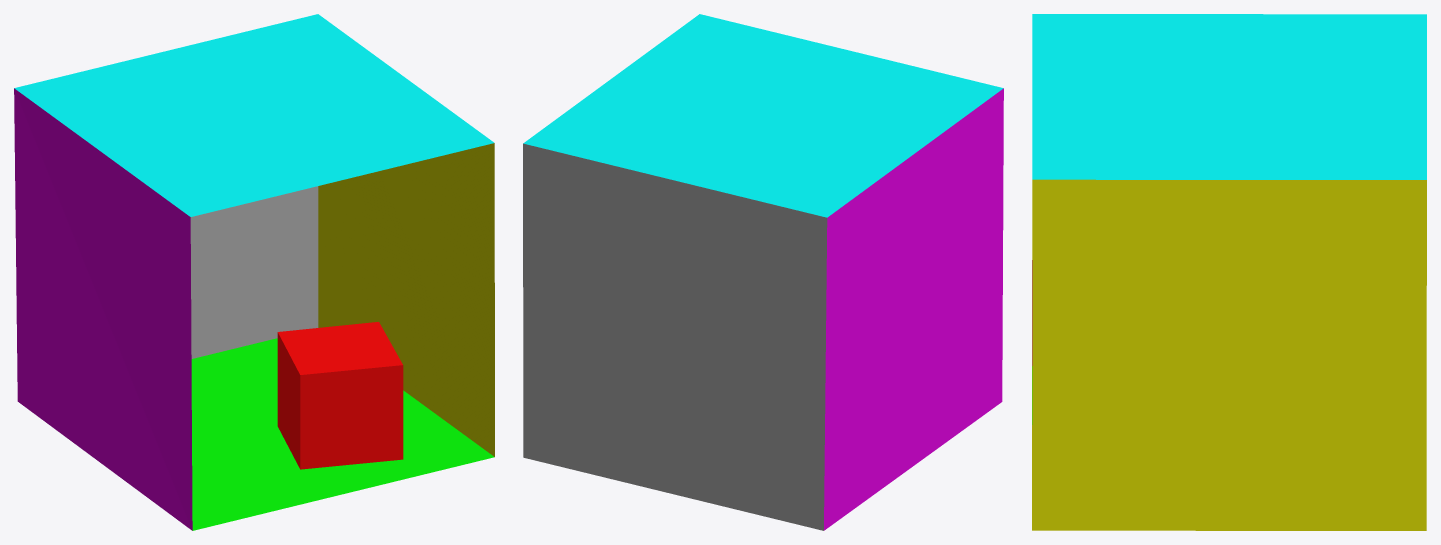
Rendered from cornell-box.obj.
3 views of the same model, side by side, from view 1: azimuth 30°, elevation 25°; view 2: azimuth 150°, elevation 25°; view 3: azimuth 270°, elevation 25° (orthographic). The views are drawn at different scales.
Parts seen in each view (by area): view 1: left_wall, ceiling, right_wall, floor, back_wall, short_box; view 2: back_wall, left_wall, ceiling; view 3: right_wall, ceiling.
Part boxes in pixels (box(x1,y1,x2,y2)): left_wall: box(14, 88, 192, 530); ceiling: box(14, 14, 494, 216); right_wall: box(318, 143, 494, 456); floor: box(191, 338, 494, 530); back_wall: box(190, 186, 318, 358); short_box: box(277, 322, 403, 469); back_wall: box(523, 143, 827, 530); left_wall: box(824, 88, 1003, 530); ceiling: box(523, 14, 1003, 217); right_wall: box(1032, 179, 1426, 530); ceiling: box(1032, 14, 1426, 179).
Size of the model in its own units: 5.56 by 5.49 by 5.6.
